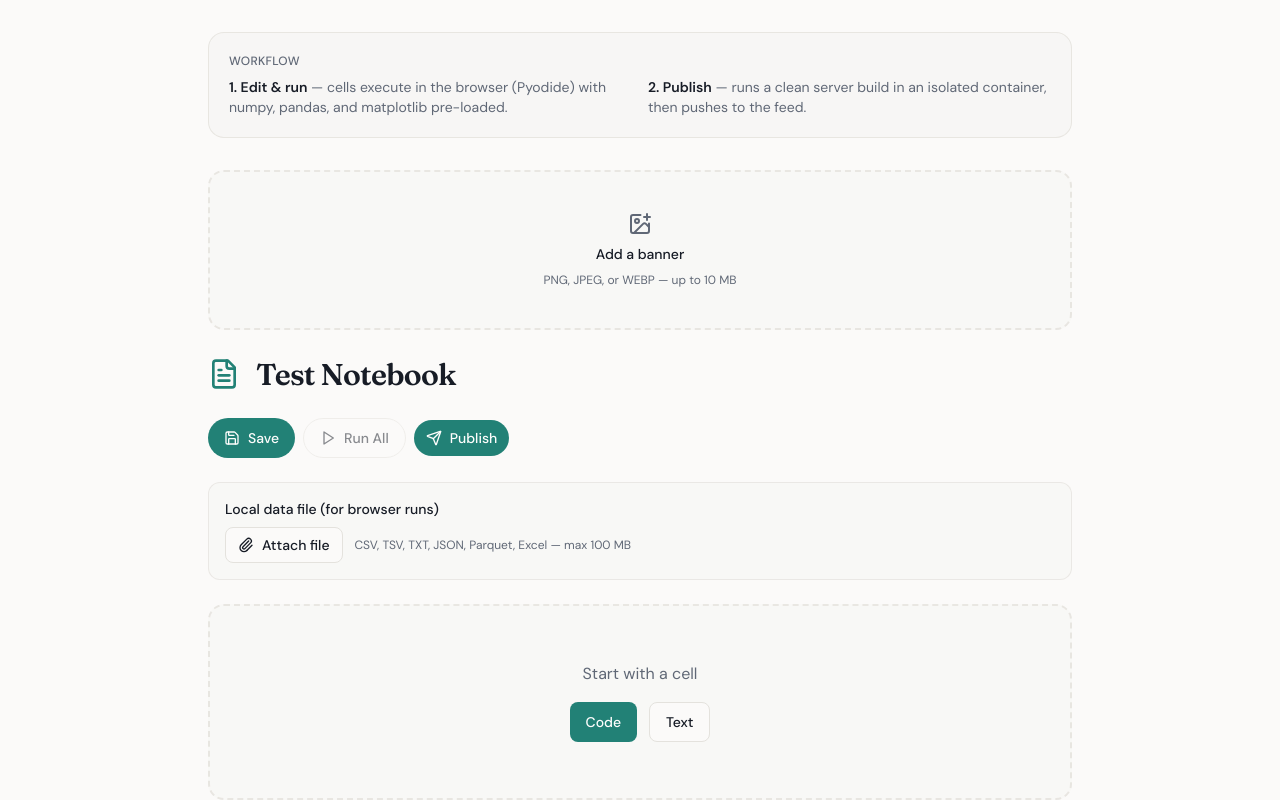
Scenario: NotebookEditor › Publish › opens publish dialog when Publish clicked
Step 1. Click the button "Publish" → (462, 438), box [414, 420, 509, 456]
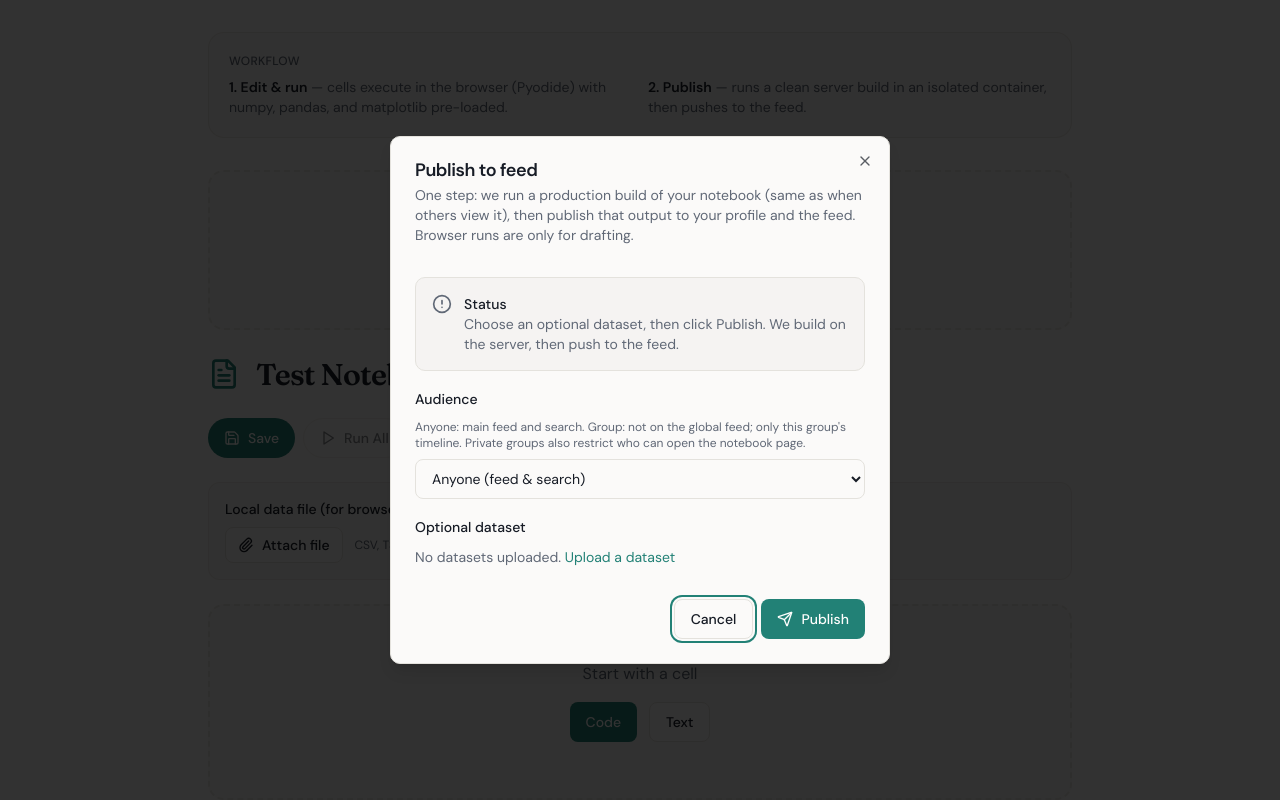
Now the heading "Publish to feed" is shown, box [415, 158, 537, 182]
